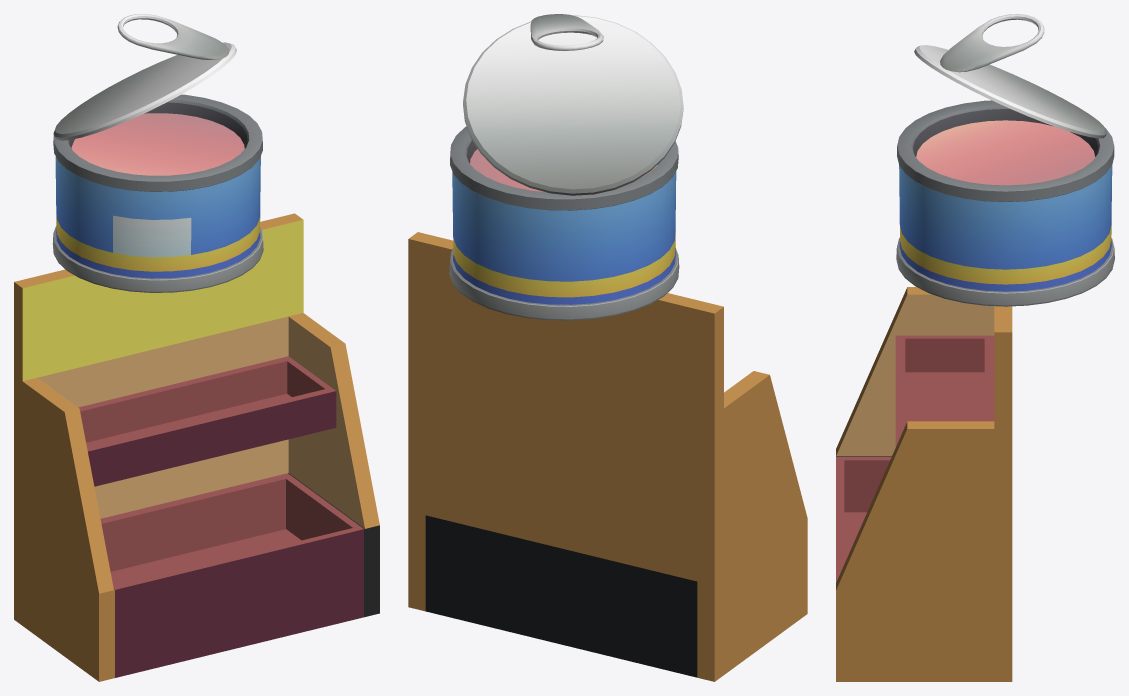
The model's file is Shelve_Pate.fbx.
The picture shows the model from 3 angles, left to right: view 1: azimuth 30°, elevation 25°; view 2: azimuth 150°, elevation 25°; view 3: azimuth 270°, elevation 25°; orthographic projection. The views are drawn at different scales.
Parts seen in each view (by area): view 1: Shelve_Pate; view 2: Shelve_Pate; view 3: Shelve_Pate.
Boxes of the visible parts, box(x1,y1,x2,y2) form: Shelve_Pate: box(14, 14, 379, 681); Shelve_Pate: box(408, 14, 807, 681); Shelve_Pate: box(836, 14, 1114, 681).
Bounding box in the file's own units: 441 × 844 × 366.
